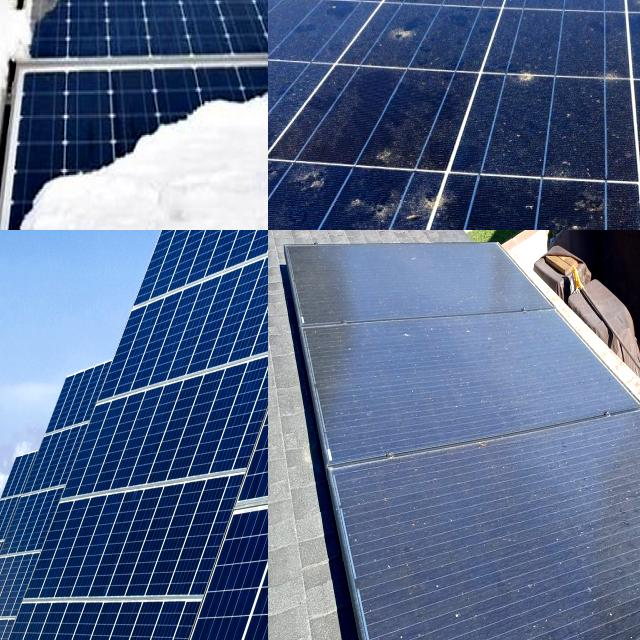bird: (279, 124, 430, 230), (357, 0, 416, 66), (511, 34, 566, 102), (595, 41, 640, 109)
crack: (149, 230, 268, 640)
dust: (398, 456, 499, 640), (435, 317, 546, 438), (532, 433, 595, 640), (338, 320, 421, 450), (310, 252, 398, 314), (416, 245, 496, 313)
panel: (129, 51, 268, 165), (0, 134, 103, 230), (17, 0, 78, 77), (193, 0, 265, 63), (0, 58, 46, 143), (0, 147, 41, 230), (66, 0, 197, 22), (58, 0, 172, 23), (0, 0, 73, 20)
